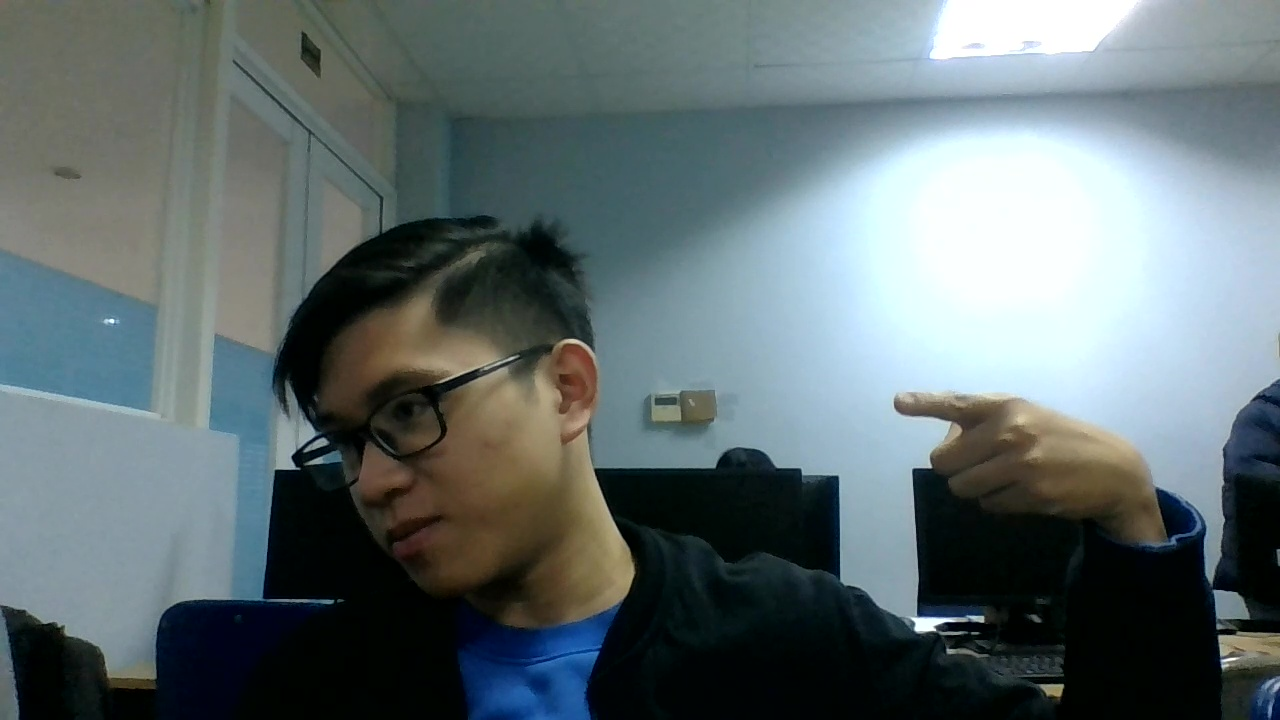right: (887, 372, 1156, 520)
